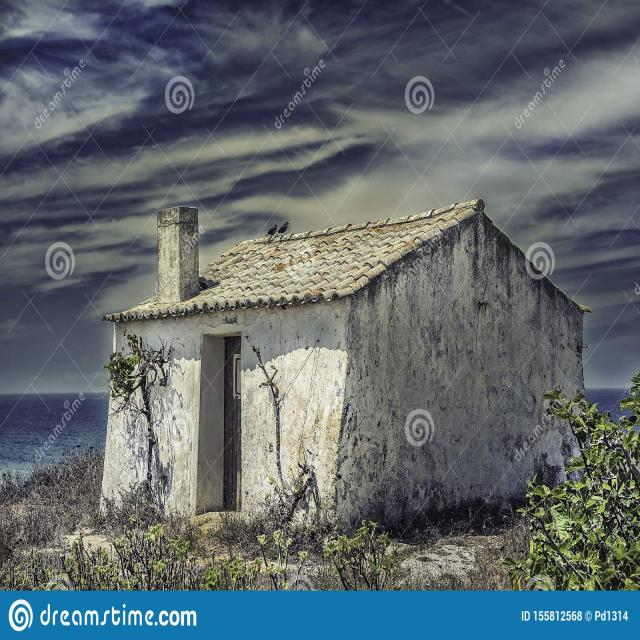bird: (265, 222, 278, 240)
